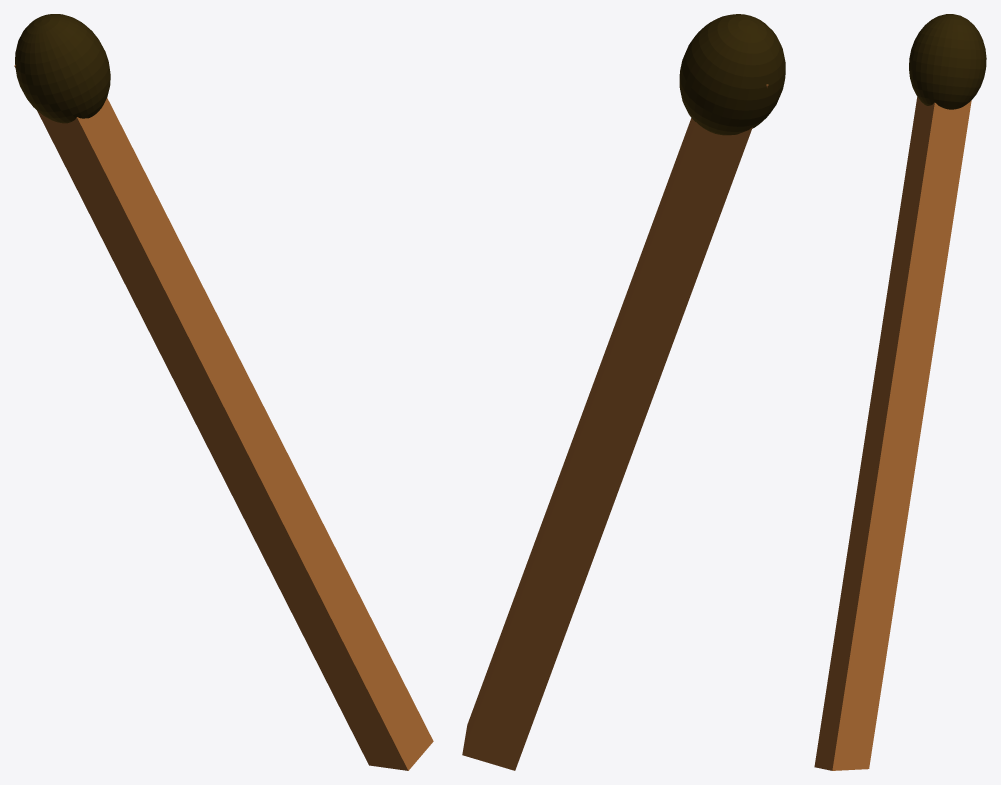
The model's file is Match.fbx.
3 views of the same model, side by side, from view 1: azimuth 30°, elevation 25°; view 2: azimuth 150°, elevation 25°; view 3: azimuth 270°, elevation 25° (orthographic). The views are drawn at different scales.
Visible parts, largest first — view 1: Cube; view 2: Cube; view 3: Cube.
Part boxes in pixels (bbox=[...]): Cube: bbox=[14, 14, 433, 770]; Cube: bbox=[462, 14, 785, 770]; Cube: bbox=[814, 14, 986, 770].
Size of the model in its own units: 2.32 by 4.94 by 1.2.
